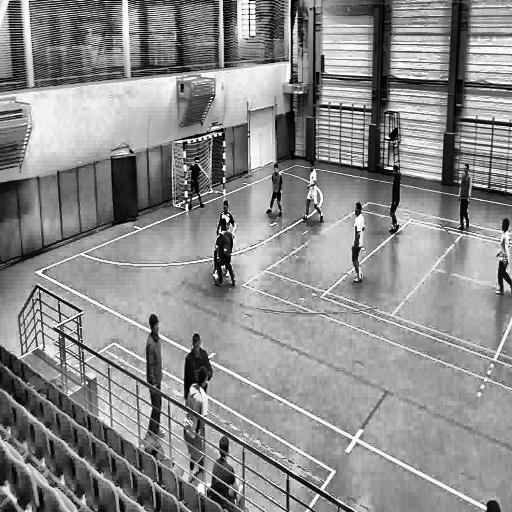ball: (213, 272, 219, 286)
player: (183, 364, 213, 474), (183, 330, 215, 414), (146, 310, 163, 432), (212, 199, 238, 277), (492, 216, 512, 303), (184, 154, 210, 213), (215, 217, 236, 289), (302, 160, 324, 224), (349, 201, 365, 288), (455, 160, 472, 235), (388, 165, 402, 236), (265, 163, 282, 221)
